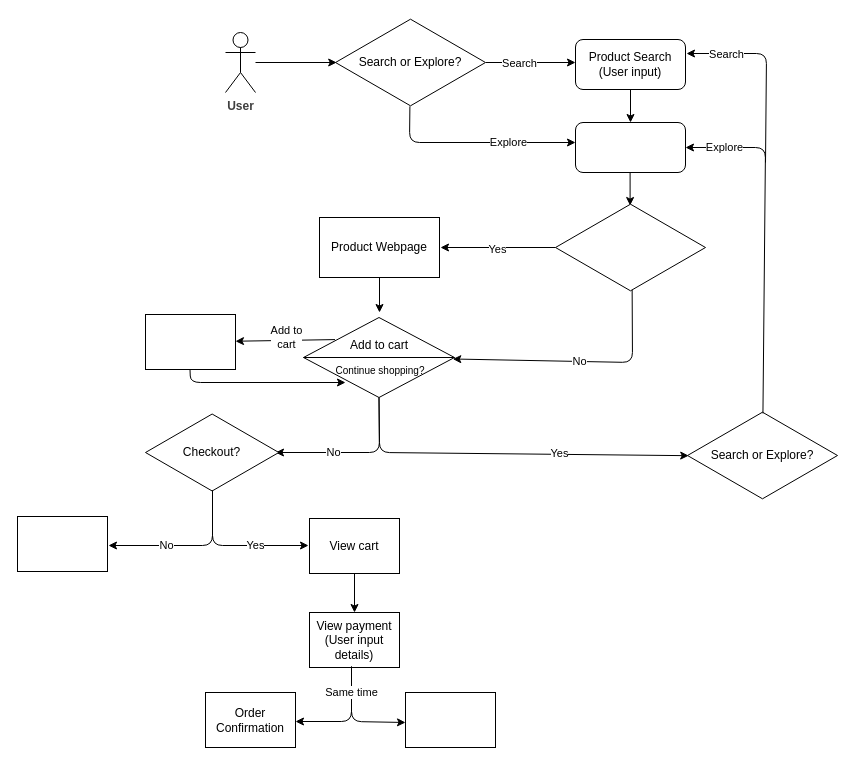
The diagram is 855 pixels wide and 765 high, and some of its shapes have lost their labels. The shapes that lost their labels are listed below. From the top down, each one's centre as x and y in pixels, then its label:
At point 630,147: "Home page".
At point 630,247: "View Specific Product?".
At point 190,342: "Added to cart Confirmation".
At point 62,544: "Leave website".
At point 450,720: "Receive an email".
